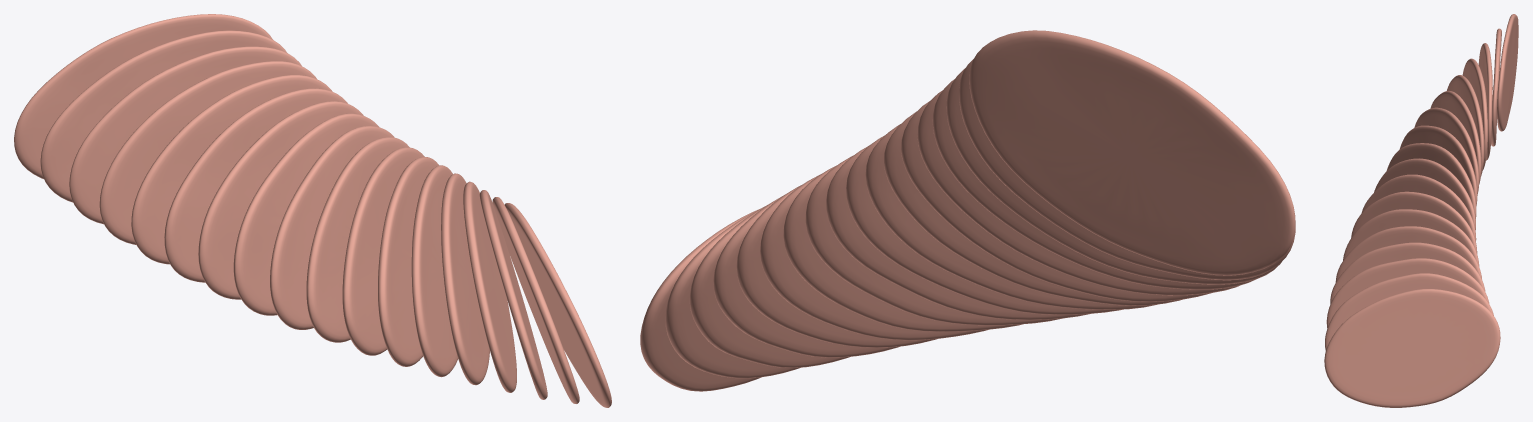
File: da4d8f88-25be-4df1-ac5a-8a5972f02fb9_flowing-cricle-background-v1-optimize.glb
3 renders of one model, left to right at view 1: azimuth 30°, elevation 25°; view 2: azimuth 150°, elevation 25°; view 3: azimuth 270°, elevation 25°, orthographic. The views are drawn at different scales.
Visible parts, largest first — view 1: Cylinder.020; view 2: Cylinder.020; view 3: Cylinder.020.
Part boxes in pixels (<box>): Cylinder.020: <box>14,14,611,407</box>; Cylinder.020: <box>640,30,1295,391</box>; Cylinder.020: <box>1324,14,1518,407</box>.
Size of the model in its own units: 6 by 4.47 by 2.95.
